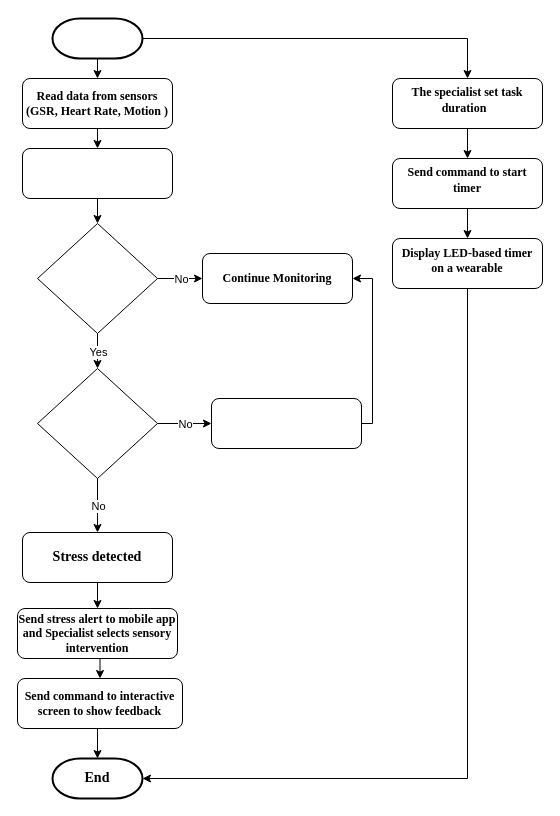
Some shapes in this 560 by 816 pixel diagram are drawn without their labels. The box of each missing label's shape, as (x1, y1, x2, y2) in pixels:
analyze signals: (22, 148, 172, 198)
Are GSR and HR values high?: (36, 222, 158, 334)
Is motion below threshold?: (36, 368, 158, 478)
Likely physical activity: (210, 398, 362, 448)
Start: (51, 17, 143, 59)
